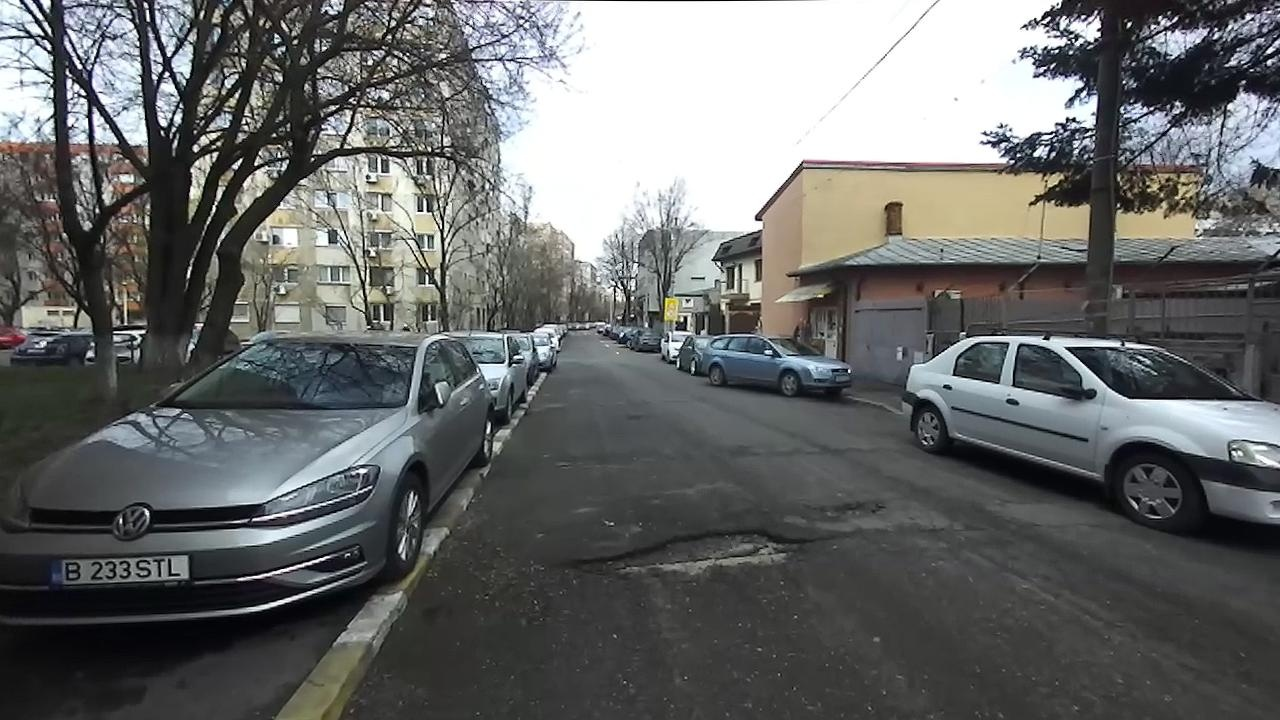pothole: (560, 524, 844, 581), (804, 491, 892, 515)
